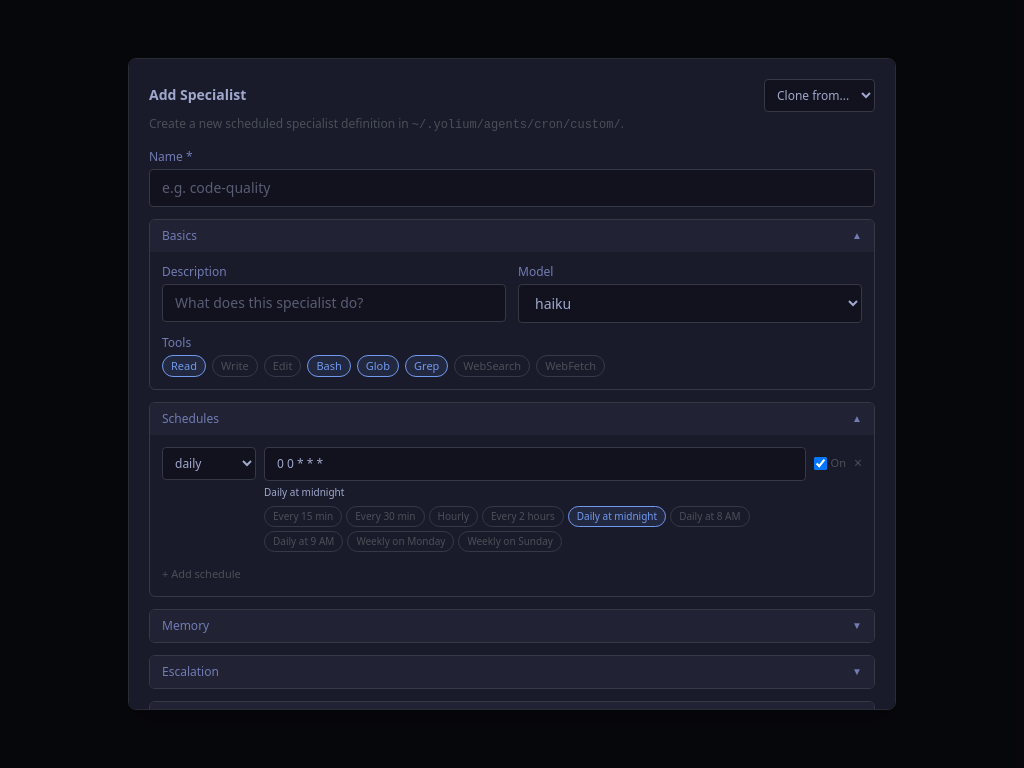
Test case: AddSpecialistDialog › should sanitize name input to kebab-case on blur
Type "  My_Specialist!! 2026  " into the field with test id "specialist-name-input" at (512, 188), box 149,169 -> 875,207
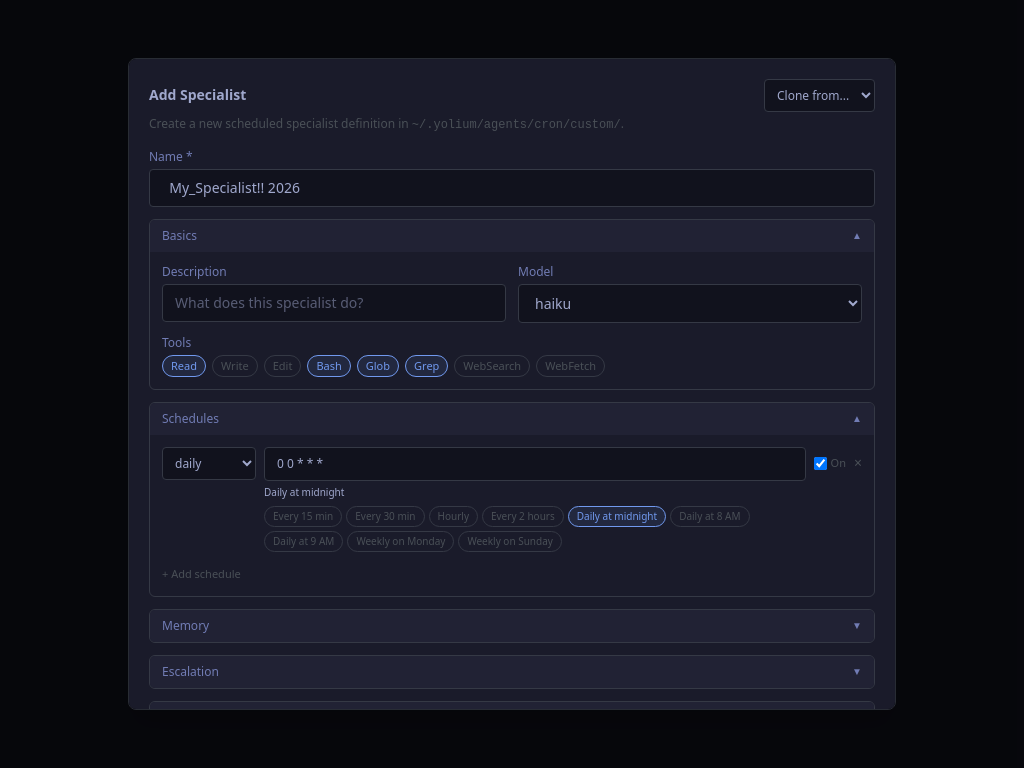
Leave the field with test id "specialist-name-input", box 149,169 -> 875,207
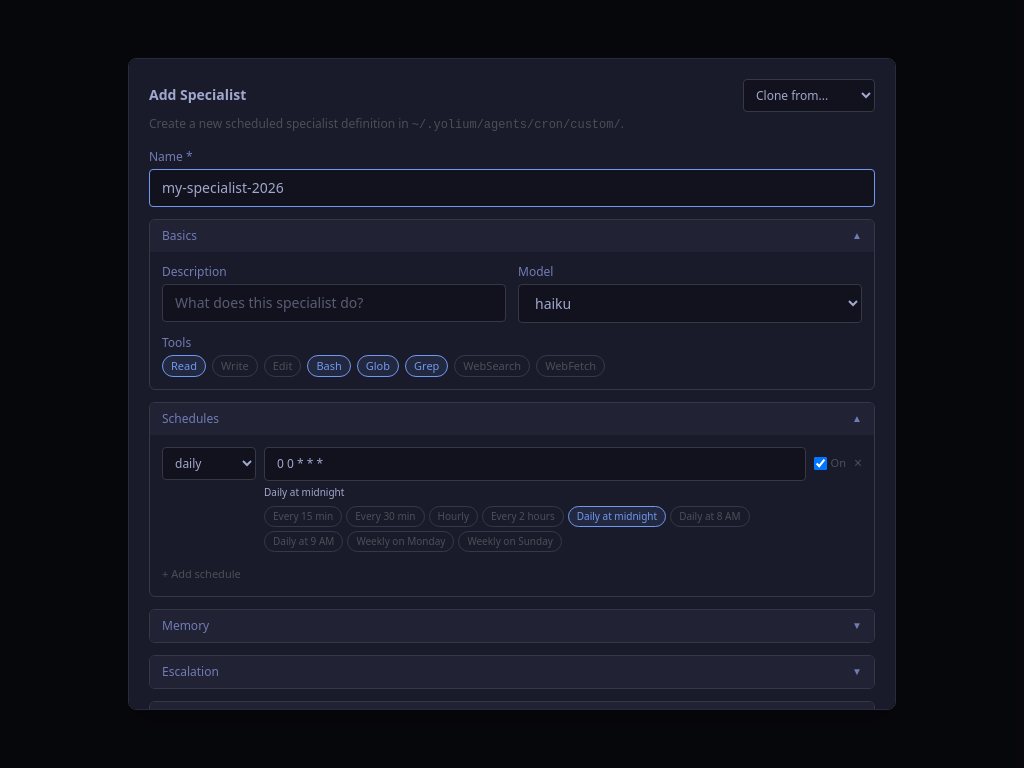
Expected: the field with test id "specialist-name-input" holds "my-specialist-2026", 149,169 -> 875,207
